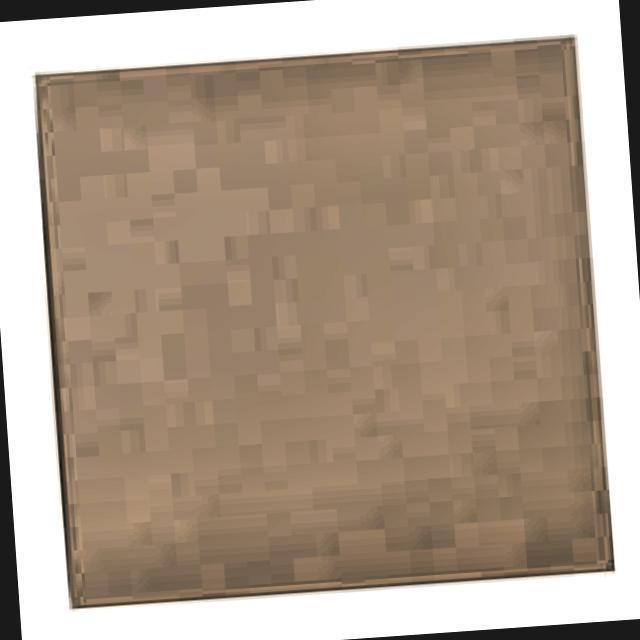cardboard: (32, 36, 618, 612)
